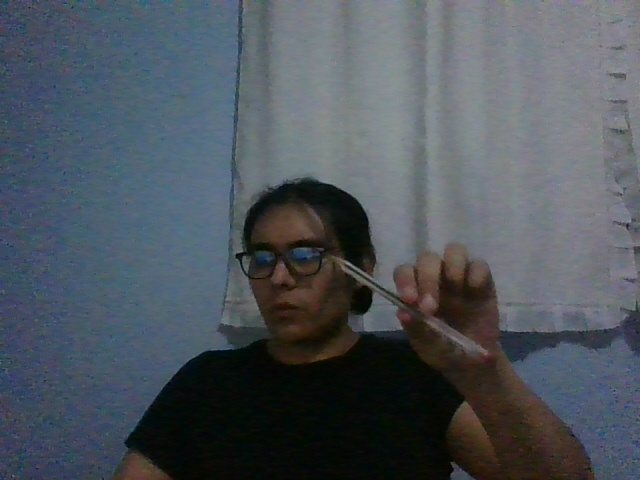pluma: (323, 253, 491, 362)
